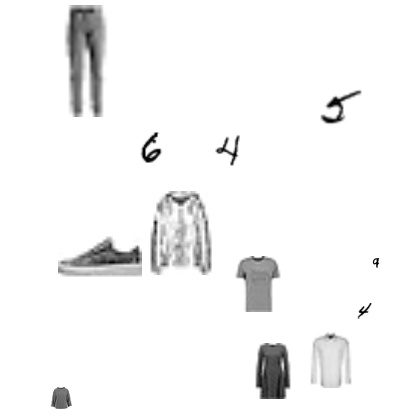4: (208, 128, 250, 170), (353, 299, 375, 321)
5: (309, 79, 365, 135)
6: (129, 128, 171, 170)
9: (369, 255, 383, 269)
Coat: (139, 191, 223, 275)
Dress: (244, 343, 300, 399)
Shirt: (303, 332, 359, 388), (50, 387, 72, 409)
Sneaker: (58, 213, 142, 297)
T-shirt/top: (230, 256, 286, 312)
Trouser: (30, 5, 142, 117)
